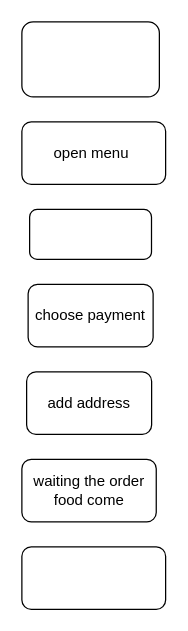
This 188x631 diagram has some shape labels left out. The shapes that lost their labels are listed below. From the top down, each one's box as (x1, y1, x2, y2) in pixels, then its label:
(21, 21, 159, 97): open app
(28, 208, 152, 259): slected menu
